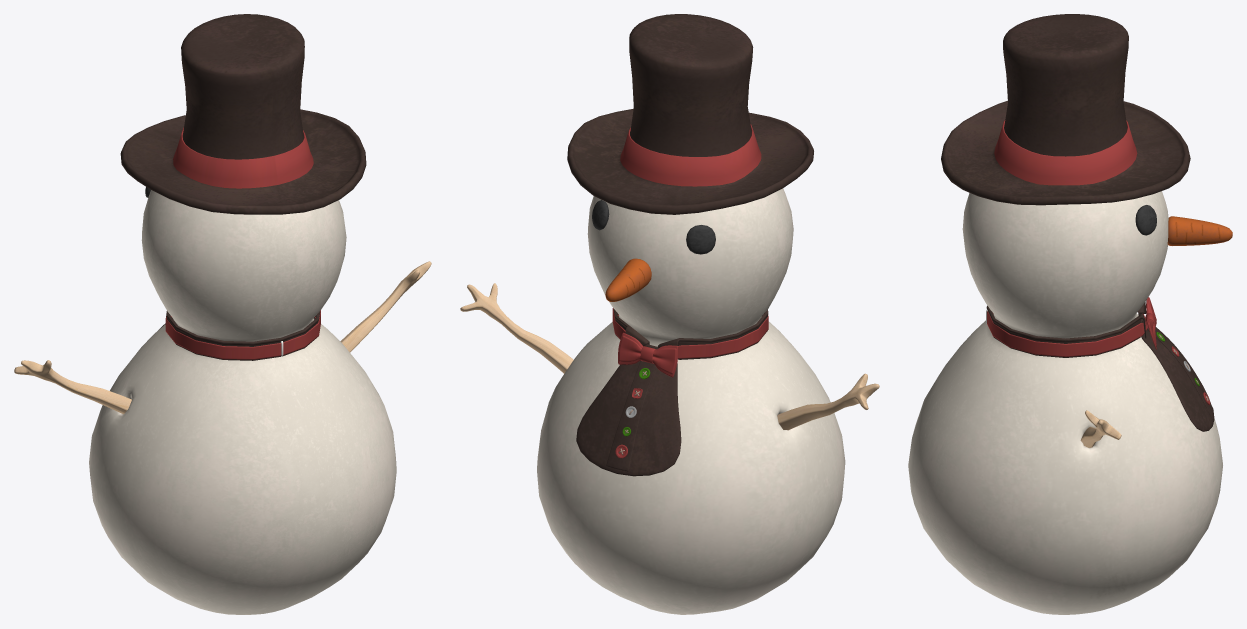
File: snowman.obj
3 views of the same model, side by side, from view 1: azimuth 30°, elevation 25°; view 2: azimuth 150°, elevation 25°; view 3: azimuth 270°, elevation 25° (orthographic).
Parts seen in each view (by area): view 1: snowman; view 2: snowman; view 3: snowman.
Part boxes in pixels (bbox=[...]): snowman: bbox=[14, 14, 431, 614]; snowman: bbox=[460, 14, 879, 614]; snowman: bbox=[908, 14, 1232, 614].
Bounding box in the file's own units: 3.2 × 4.14 × 2.16.
